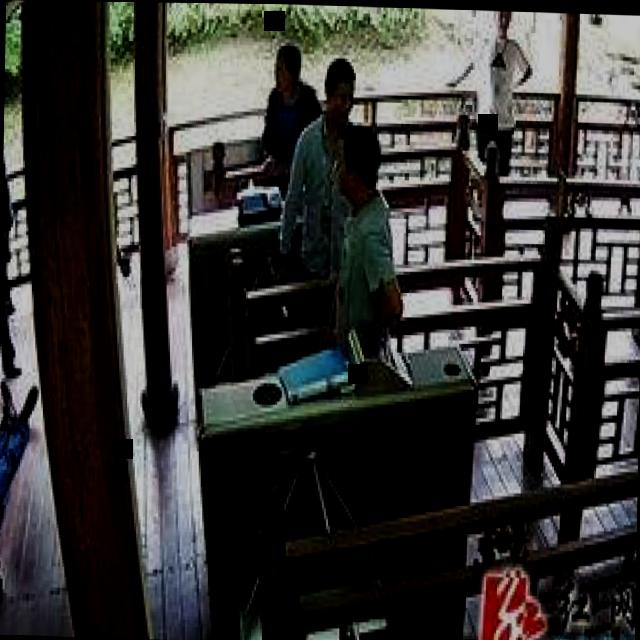Fall-Detected: (0, 371, 54, 636)
